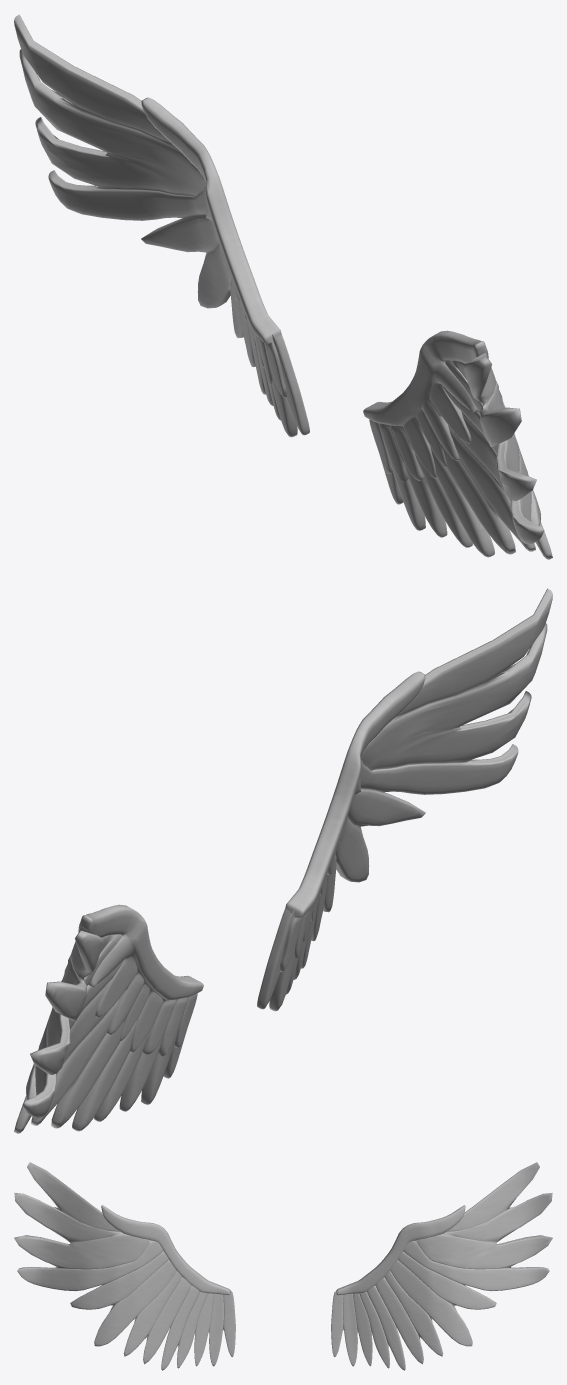
File: krilo.glb
3 renders of one model, top to bottom at view 1: azimuth 30°, elevation 25°; view 2: azimuth 150°, elevation 25°; view 3: azimuth 270°, elevation 25°, orthographic. The views are drawn at different scales.
Visible parts, largest first — view 1: polySurface18; view 2: polySurface18; view 3: polySurface18.
Boxes of the visible parts, <box> form: polySurface18: <box>14,14,552,559</box>; polySurface18: <box>14,588,552,1133</box>; polySurface18: <box>14,1162,552,1370</box>.
Size of the model in its own units: 4.23 by 9.01 by 25.03.
1 material, 1 textured.
